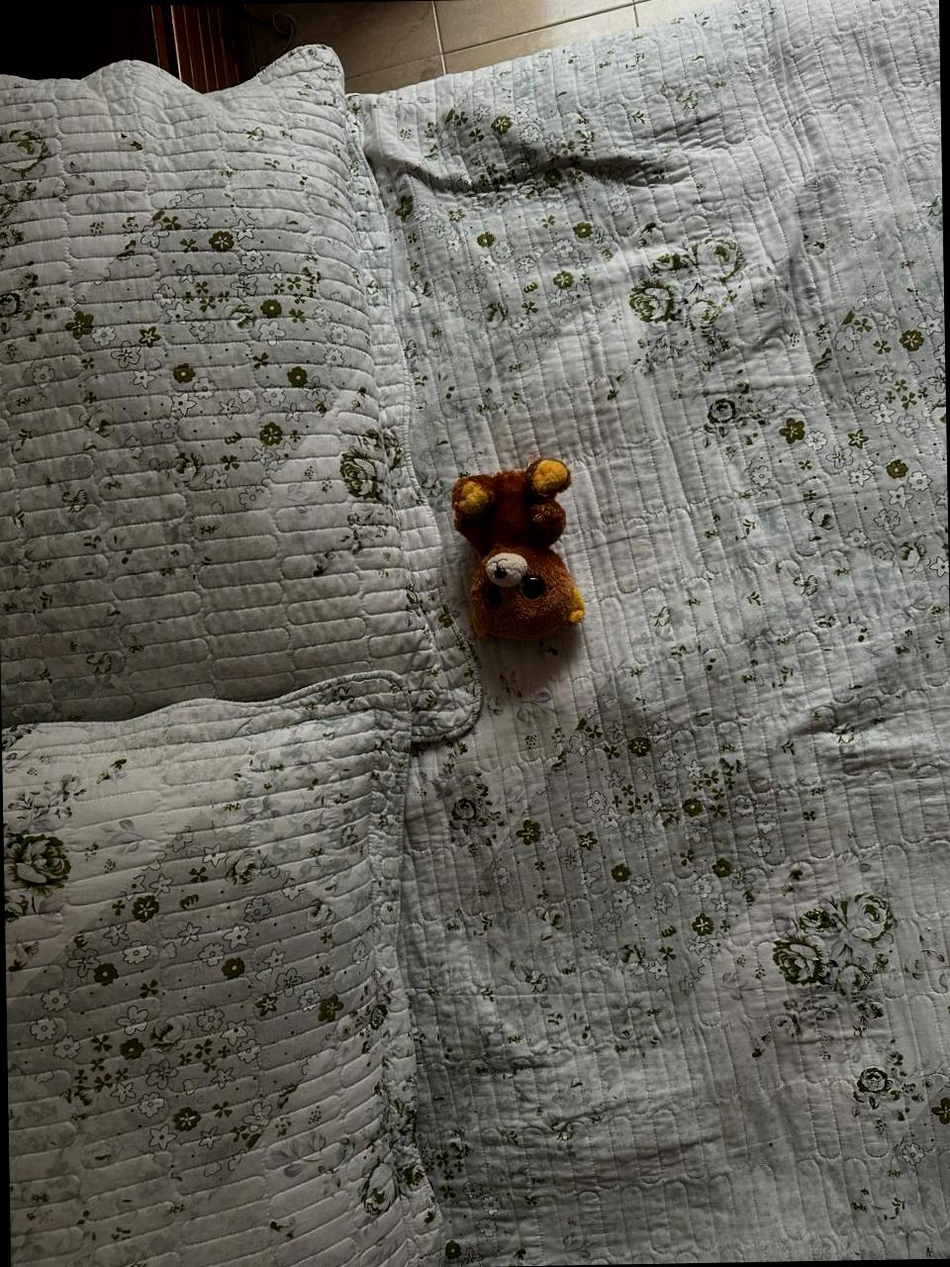peluche_sebastian: (447, 448, 589, 648)
